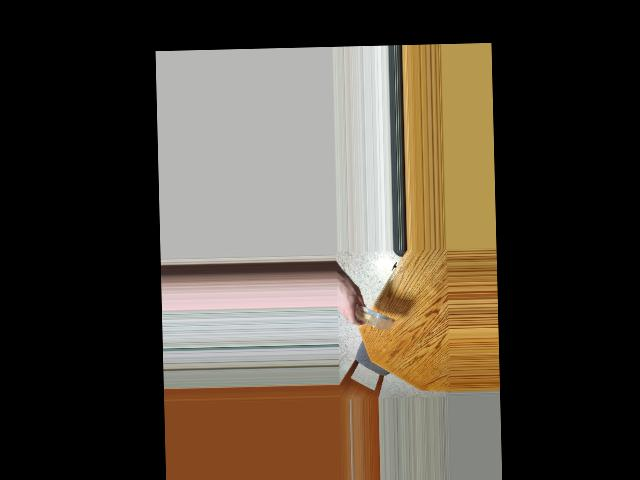cheese: (349, 305, 396, 331)
